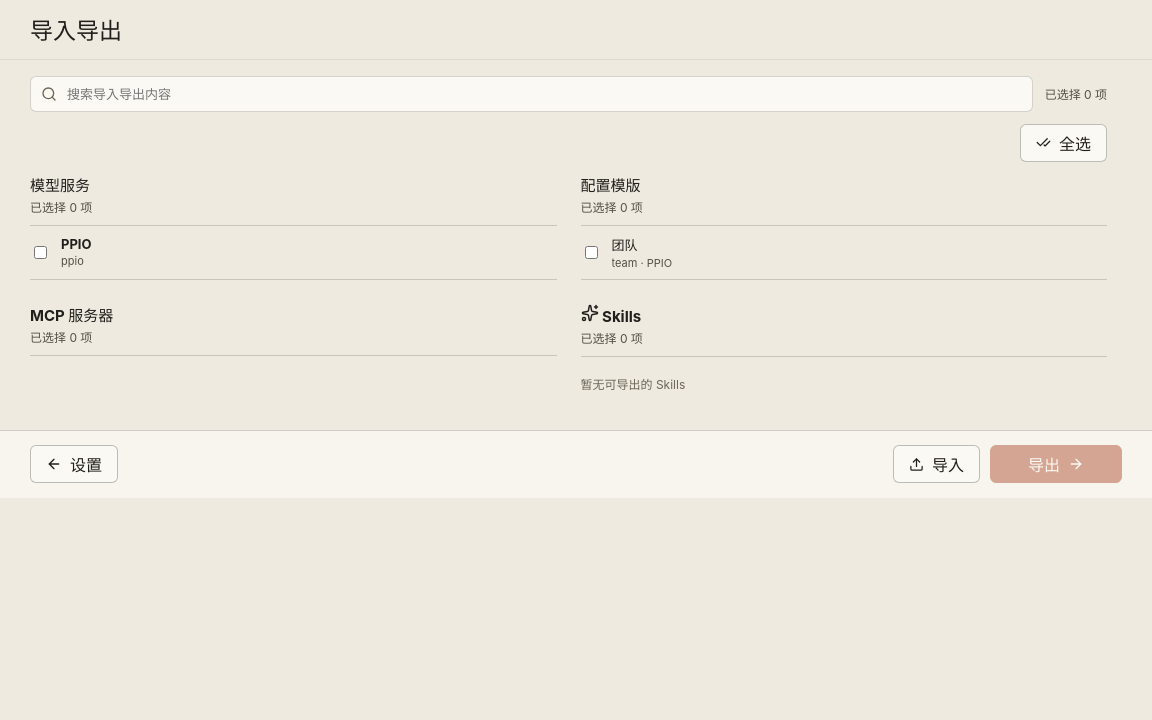
Test: TransferPage › says the exported file holds plain-text keys when encryption is declined
Click the checkbox labelled "团队 team · PPIO" at [591, 252], box [584,246,598,259]
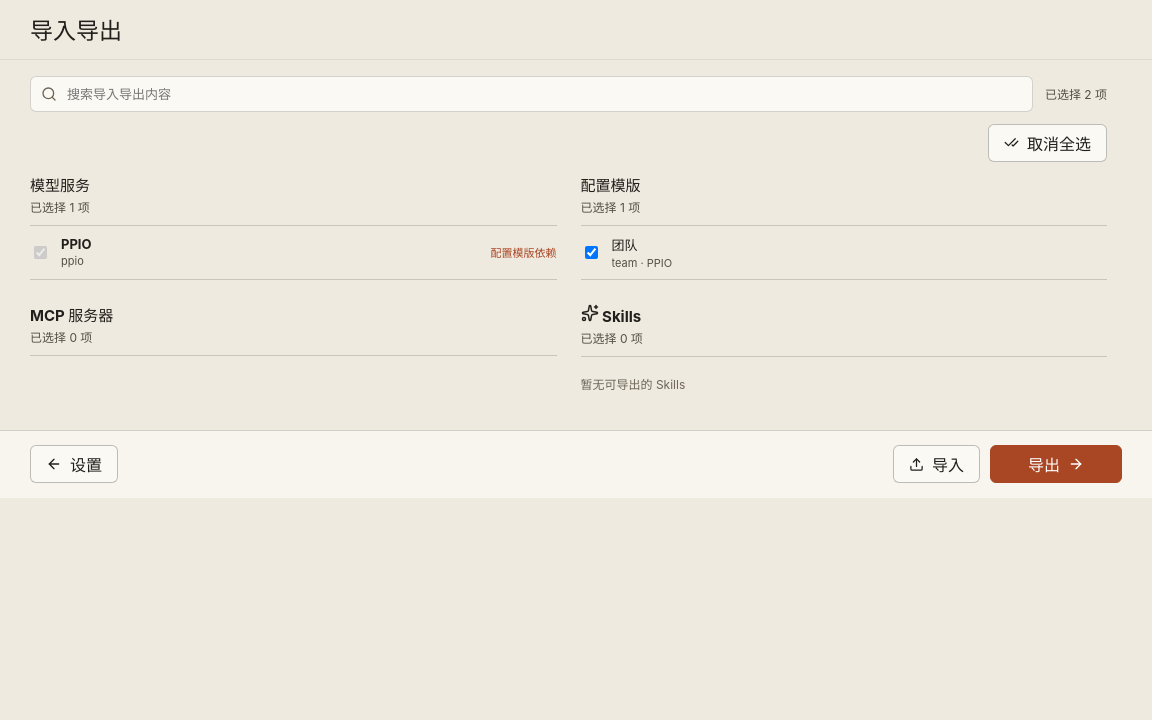
Click the button "导出" at [1056, 464], box [990,445,1122,483]
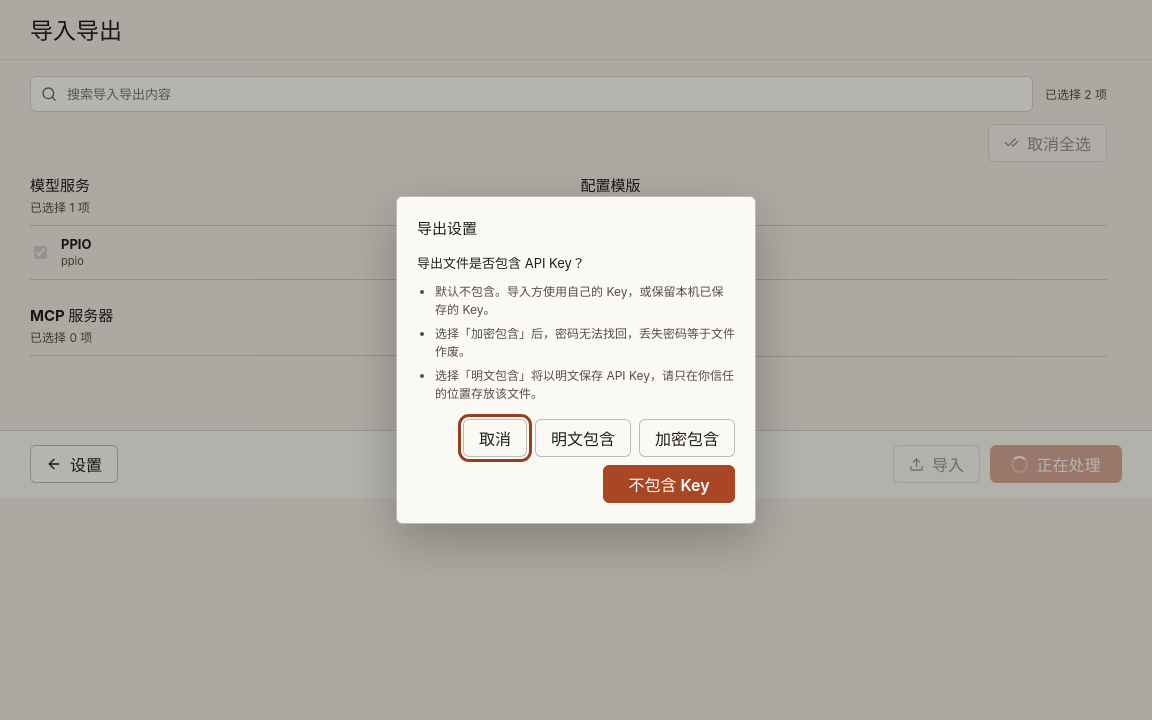
Click the button "明文包含" at [583, 438], box [535,419,631,457]
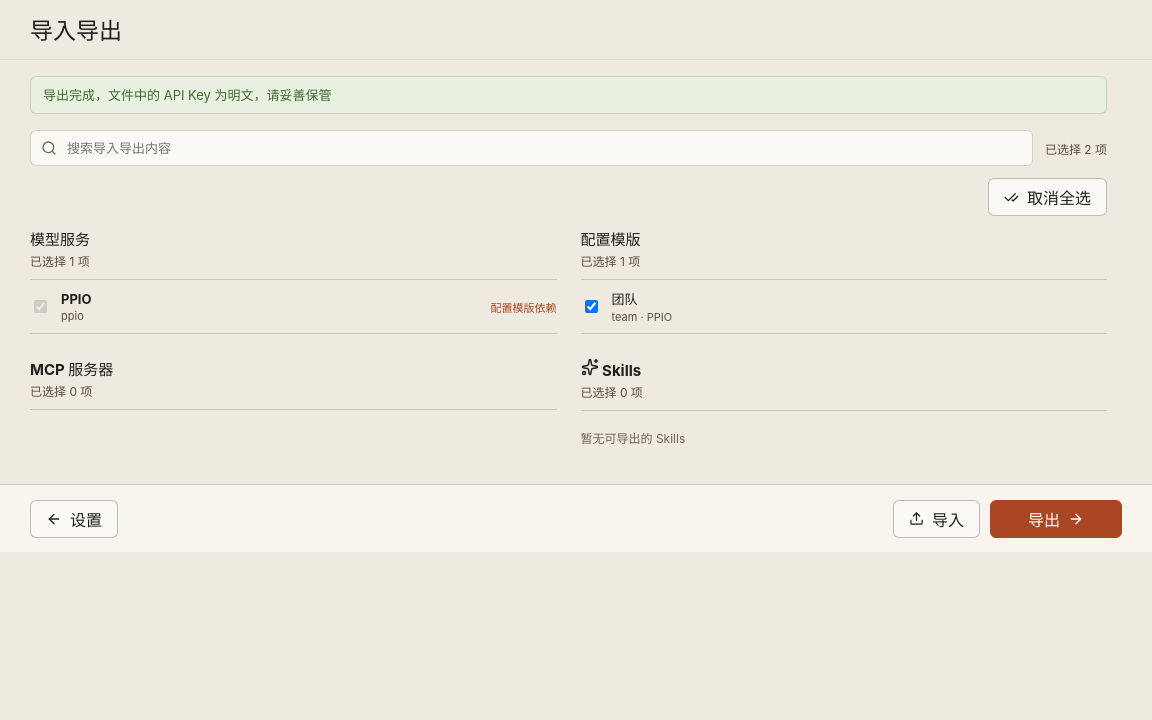
Check: the text "导出完成，文件中的 API Key 为明文，请妥善保管" is shown, box [30,76,1107,114]
